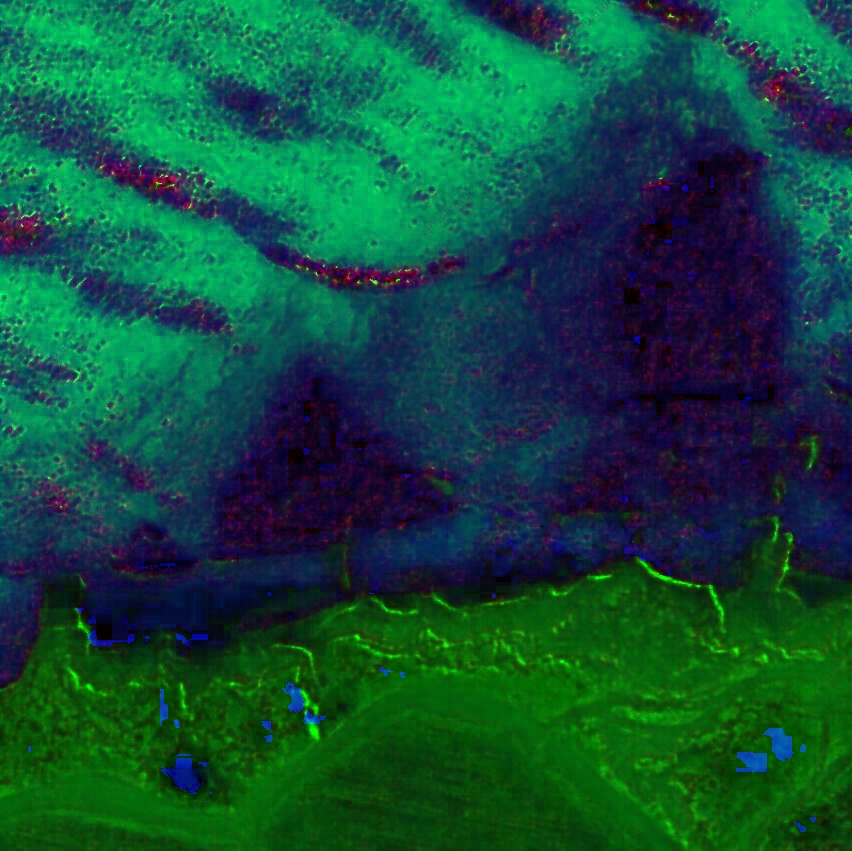rip_current: (338, 136, 645, 502)
